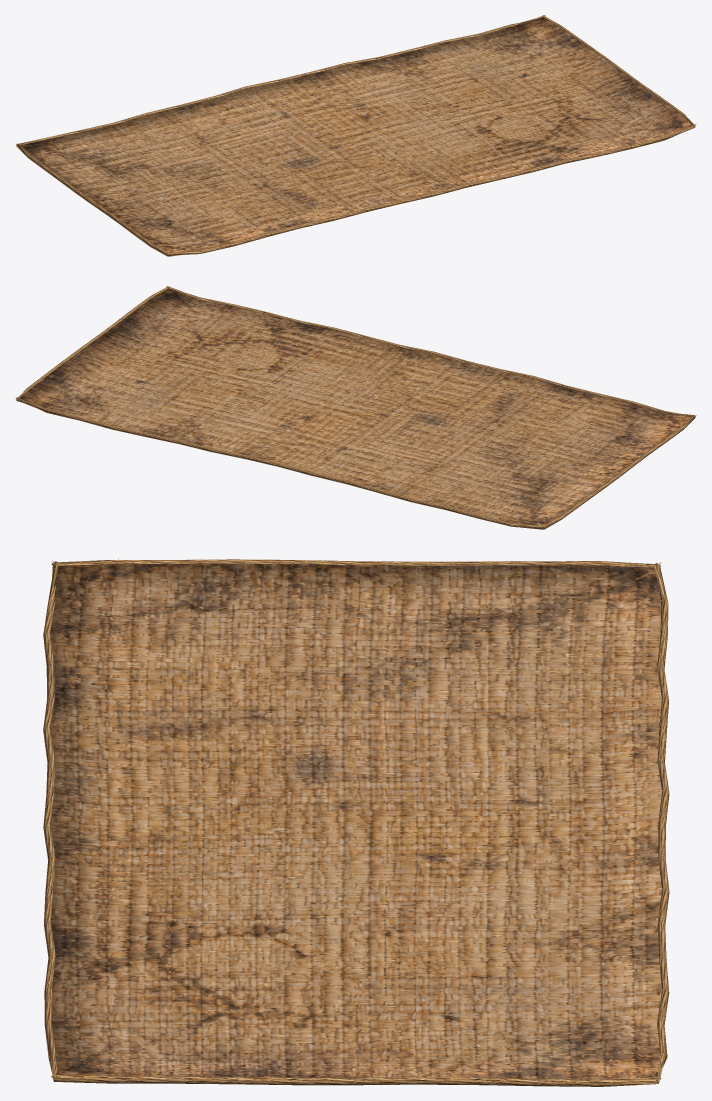
File: Model_StrawSleepingMatFlat.glb
3 views of the same model, one above another, from view 1: azimuth 30°, elevation 25°; view 2: azimuth 150°, elevation 25°; view 3: azimuth 270°, elevation 25° (orthographic). The views are drawn at different scales.
Visible parts, largest first — view 1: Model_StrawSleepingMatFlat; view 2: Model_StrawSleepingMatFlat; view 3: Model_StrawSleepingMatFlat.
Part boxes in pixels (<box>): Model_StrawSleepingMatFlat: <box>16,15,696,256</box>; Model_StrawSleepingMatFlat: <box>15,286,696,529</box>; Model_StrawSleepingMatFlat: <box>43,558,669,1086</box>.
Size of the model in its own units: 1.82 by 0.0283 by 0.9205.
Materials: 1 (1 with a texture image).
